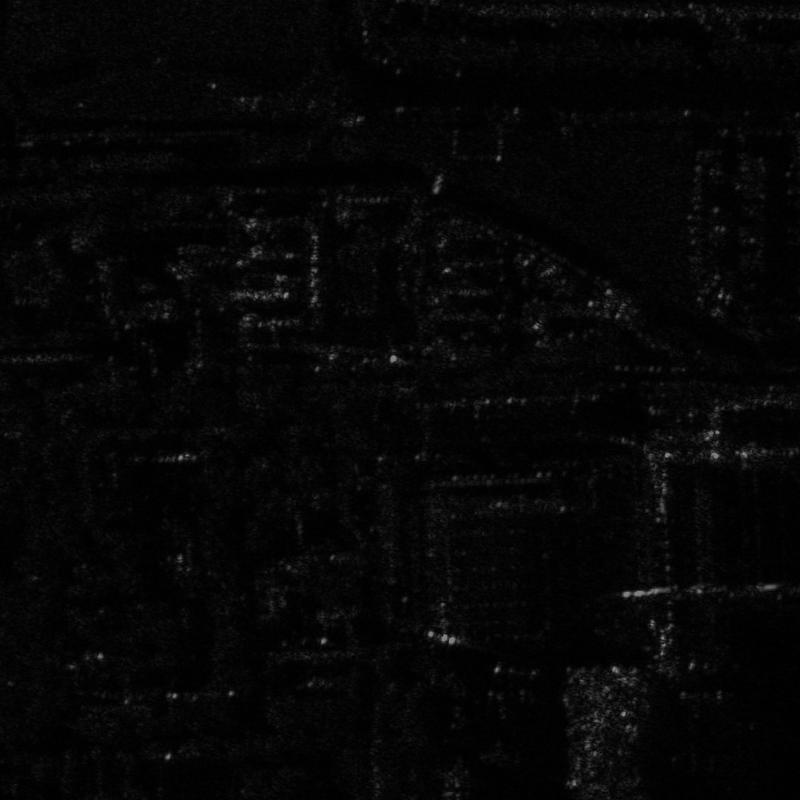Boeing737: (638, 656, 757, 774), (445, 663, 560, 769)
